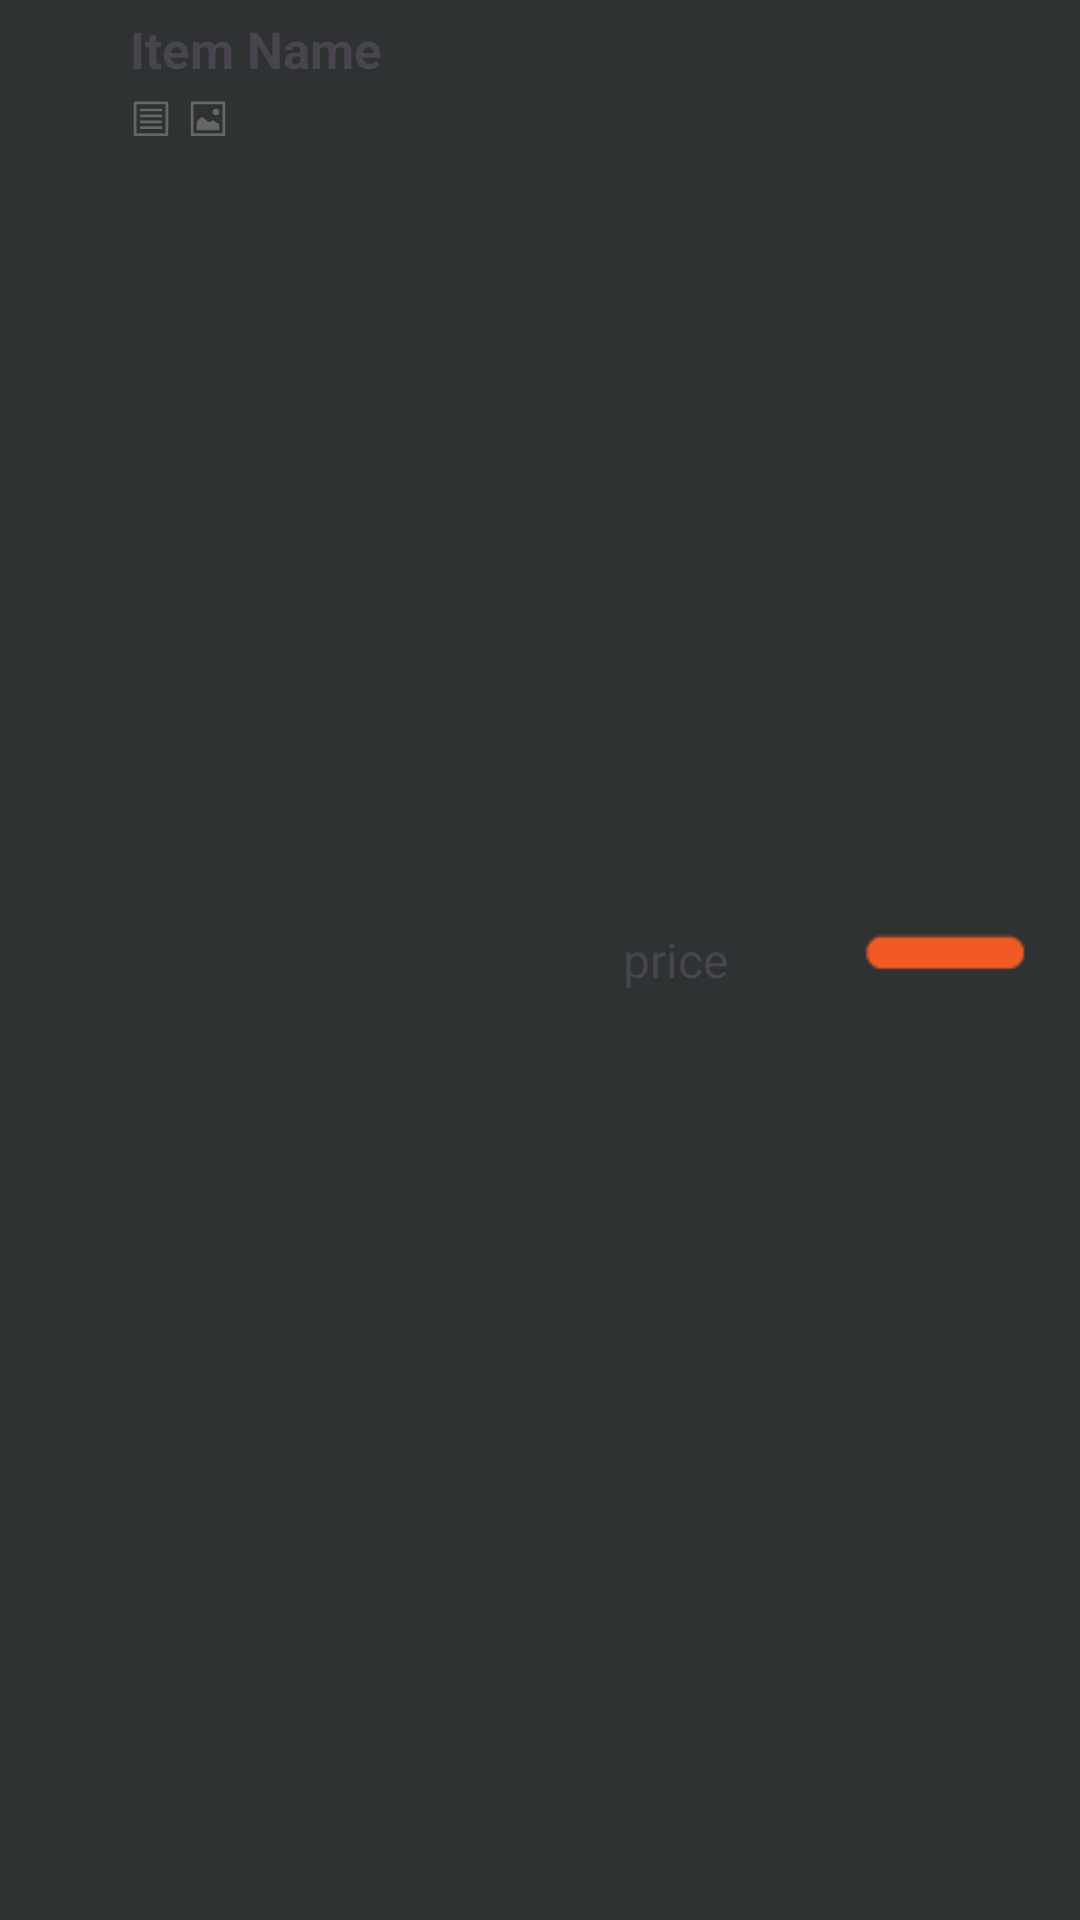

Icon bounding boxes for this 1080w x 1920h phone screenshot, format (x1, y1, x2, y2):
row notes off: (134, 101, 168, 136)
row picture off: (191, 101, 225, 136)
